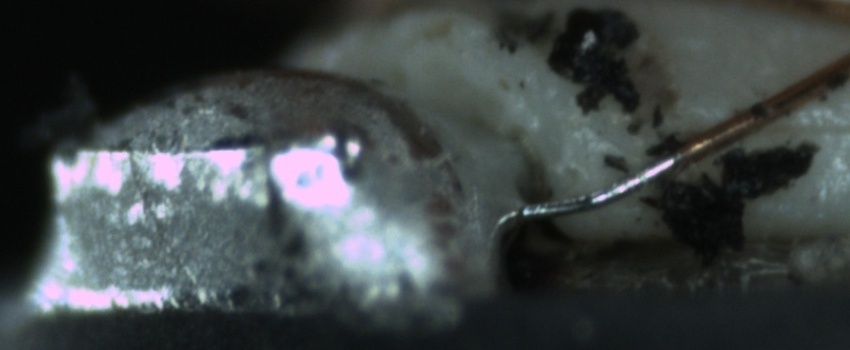DL: (767, 95, 849, 160)
TS: (521, 148, 682, 221)
